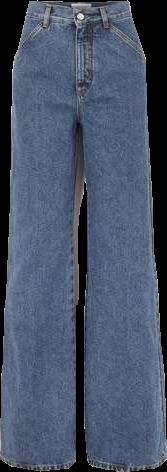Hemline: (0, 454, 76, 471), (91, 458, 166, 471)
Pantleg: (74, 1, 166, 471), (0, 0, 78, 469)
Waistline: (24, 11, 134, 23), (28, 0, 128, 8)
